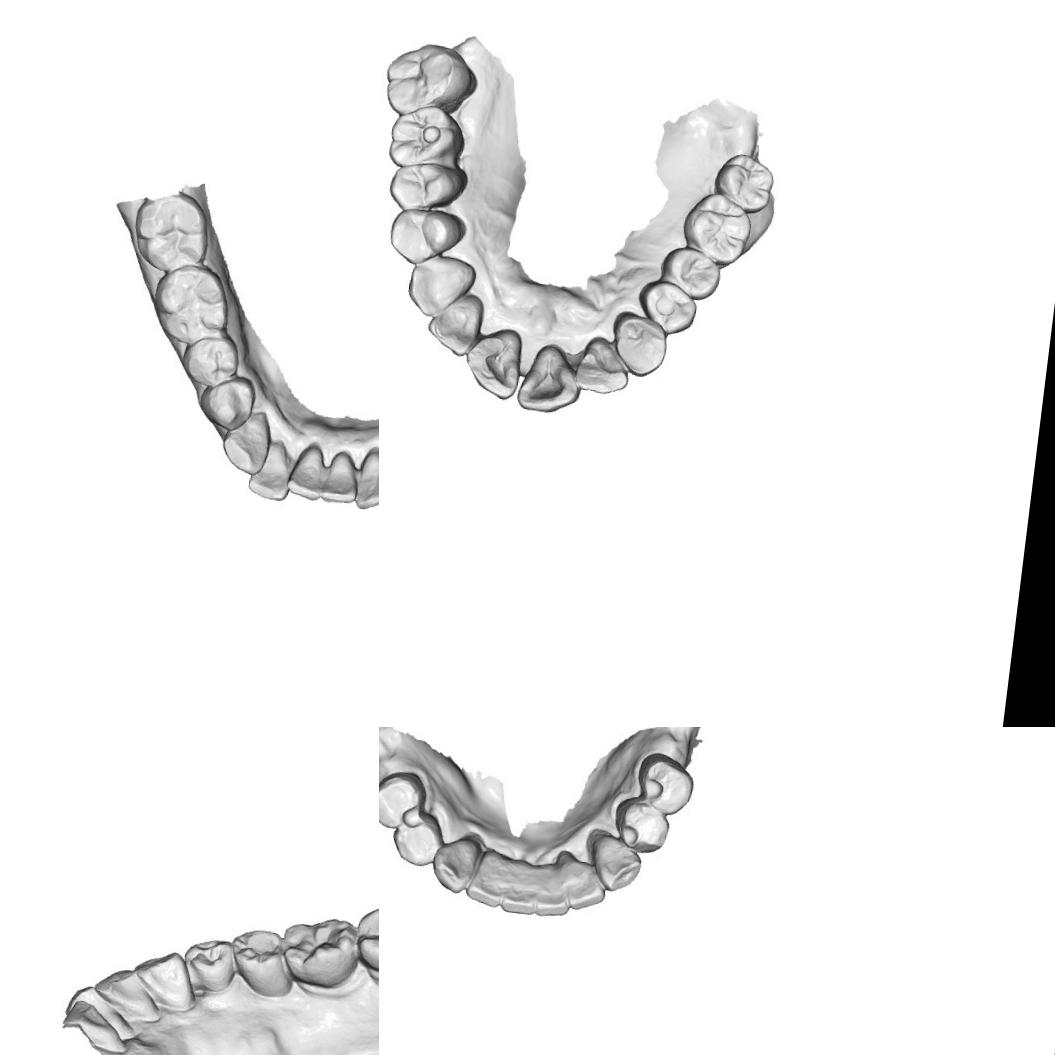canine: (399, 252, 484, 322), (606, 310, 672, 380), (587, 832, 645, 894), (216, 412, 270, 478), (429, 834, 482, 895)
incisor: (513, 343, 583, 419), (462, 326, 524, 402), (568, 329, 633, 401), (90, 965, 166, 1026), (128, 944, 198, 1010), (423, 289, 487, 360), (552, 850, 610, 914), (246, 442, 296, 503), (284, 442, 330, 506), (464, 847, 507, 908), (534, 862, 574, 921), (500, 857, 540, 916), (322, 453, 358, 503), (357, 451, 379, 511)
molar: (379, 37, 482, 120), (280, 915, 364, 994), (677, 188, 756, 269), (386, 103, 473, 172), (136, 194, 210, 268), (157, 266, 231, 340), (710, 148, 782, 217), (359, 900, 379, 969)
premolar: (229, 922, 305, 1012), (386, 204, 469, 270), (386, 156, 470, 216), (630, 275, 699, 339), (634, 749, 698, 818), (610, 793, 673, 857), (656, 244, 724, 302), (388, 808, 446, 869), (379, 766, 429, 832), (180, 330, 236, 386), (200, 374, 257, 427), (188, 934, 238, 991)
